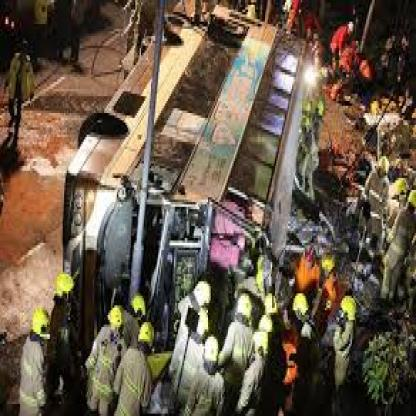accident: (48, 0, 318, 338)
